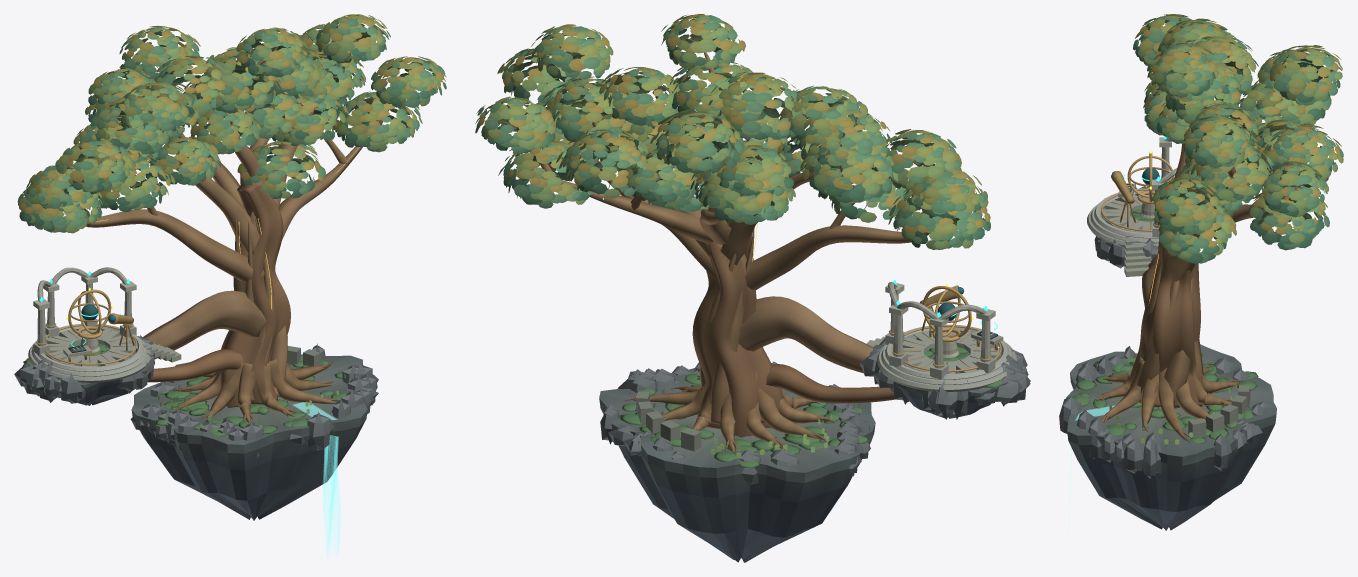
Rendered from yggdrasil-realms.glb.
The picture shows the model from 3 angles, left to right: view 1: azimuth 30°, elevation 25°; view 2: azimuth 150°, elevation 25°; view 3: azimuth 270°, elevation 25°; orthographic projection. The views are drawn at different scales.
Visible parts, largest first — view 1: Yggdrasil | oval clustered canopy, Yggdrasil | sculpted heartwood, Islands | weathered strata, Observatory | stone arcade, Islands | moss cushions, Observatory | brass instruments, Cascade | falling veil; view 2: Yggdrasil | oval clustered canopy, Islands | weathered strata, Yggdrasil | sculpted heartwood, Observatory | stone arcade, Islands | moss cushions, Observatory | brass instruments; view 3: Yggdrasil | oval clustered canopy, Islands | weathered strata, Yggdrasil | sculpted heartwood, Observatory | stone arcade, Islands | moss cushions, Observatory | brass instruments.
Boxes of the visible parts, box(x1,y1,x2,y2) form: Yggdrasil | oval clustered canopy: box(17, 14, 446, 427); Yggdrasil | sculpted heartwood: box(62, 38, 389, 423); Islands | weathered strata: box(14, 334, 378, 520); Observatory | stone arcade: box(28, 267, 181, 382); Islands | moss cushions: box(23, 343, 348, 436); Observatory | brass instruments: box(36, 289, 137, 365); Cascade | falling veil: box(293, 402, 340, 556); Yggdrasil | oval clustered canopy: box(475, 14, 990, 458); Islands | weathered strata: box(599, 338, 1030, 562); Yggdrasil | sculpted heartwood: box(498, 38, 944, 454); Observatory | stone arcade: box(866, 281, 1017, 391); Islands | moss cushions: box(619, 347, 1017, 468); Observatory | brass instruments: box(889, 285, 1001, 372); Yggdrasil | oval clustered canopy: box(1083, 14, 1343, 444); Islands | weathered strata: box(1059, 186, 1276, 530); Yggdrasil | sculpted heartwood: box(1095, 65, 1316, 442); Observatory | stone arcade: box(1087, 137, 1177, 276); Islands | moss cushions: box(1072, 208, 1258, 446); Observatory | brass instruments: box(1101, 153, 1173, 231).
Size of the model in its own units: 14.32 by 15.32 by 7.76.
